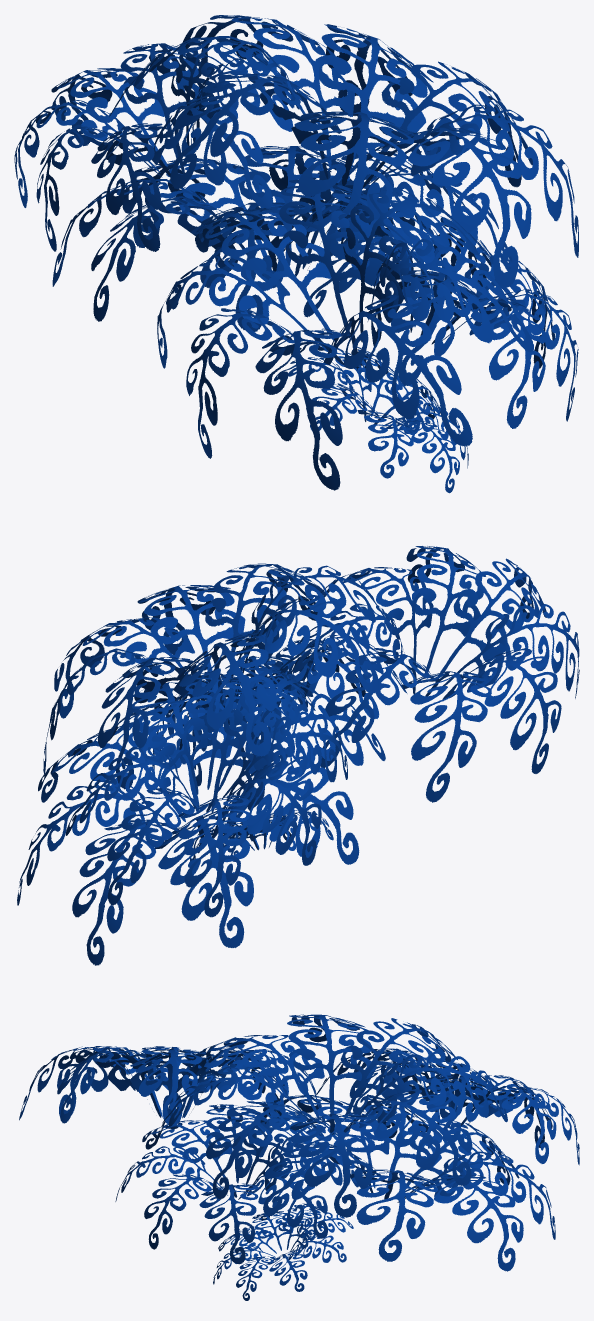
The model's file is SM_LeafSwirl.fbx.
3 views of the same model, one above another, from view 1: azimuth 30°, elevation 25°; view 2: azimuth 150°, elevation 25°; view 3: azimuth 270°, elevation 25° (orthographic). The views are drawn at different scales.
Parts seen in each view (by area): view 1: Freehand020; view 2: Freehand020; view 3: Freehand020.
Part boxes in pixels (x1=…): Freehand020: x1=14, y1=15, x2=578, y2=493; Freehand020: x1=17, y1=546, x2=579, y2=965; Freehand020: x1=19, y1=1014, x2=579, y2=1300.
Bounding box in the file's own units: 1126 × 916 × 1929.
